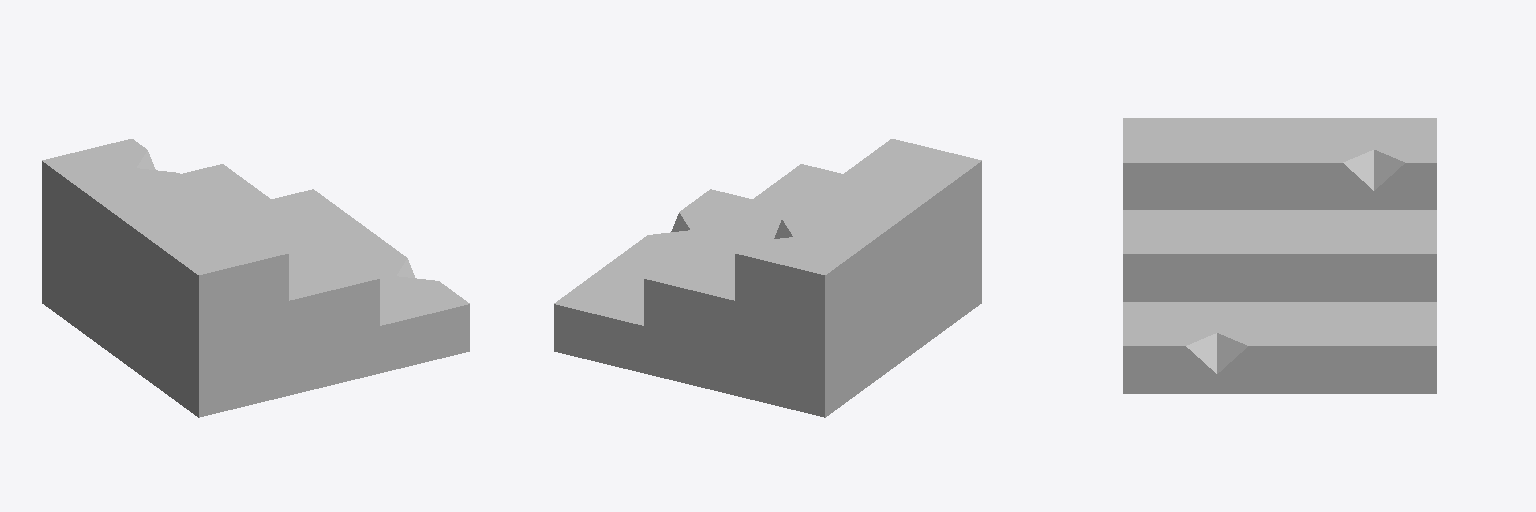
File: stairs.obj
3 views of the same model, side by side, from view 1: azimuth 30°, elevation 25°; view 2: azimuth 150°, elevation 25°; view 3: azimuth 270°, elevation 25° (orthographic).
Visible parts, largest first — view 1: stairs.026; view 2: stairs.026; view 3: stairs.026.
Part boxes in pixels (bbox=[...]): stairs.026: bbox=[42, 139, 469, 417]; stairs.026: bbox=[554, 139, 981, 417]; stairs.026: bbox=[1123, 118, 1436, 393].
Size of the model in its own units: 1 by 0.5 by 1.